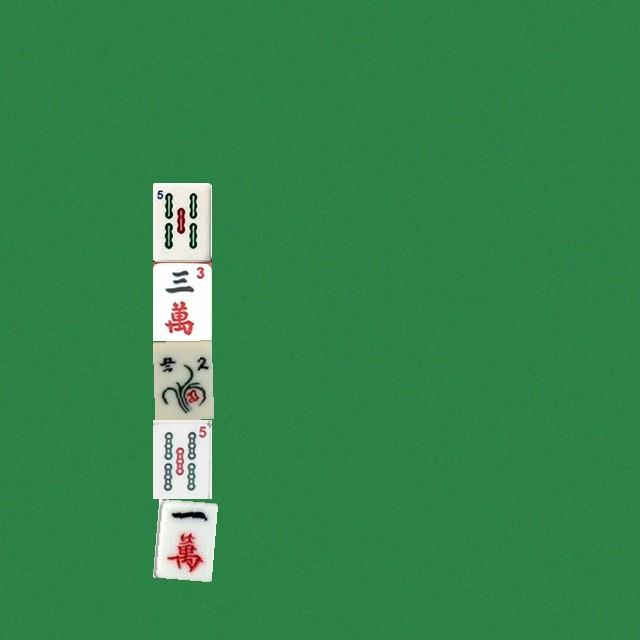tile: (152, 182, 211, 261), (152, 261, 211, 340), (152, 340, 211, 419), (152, 419, 211, 498), (152, 498, 211, 577)
